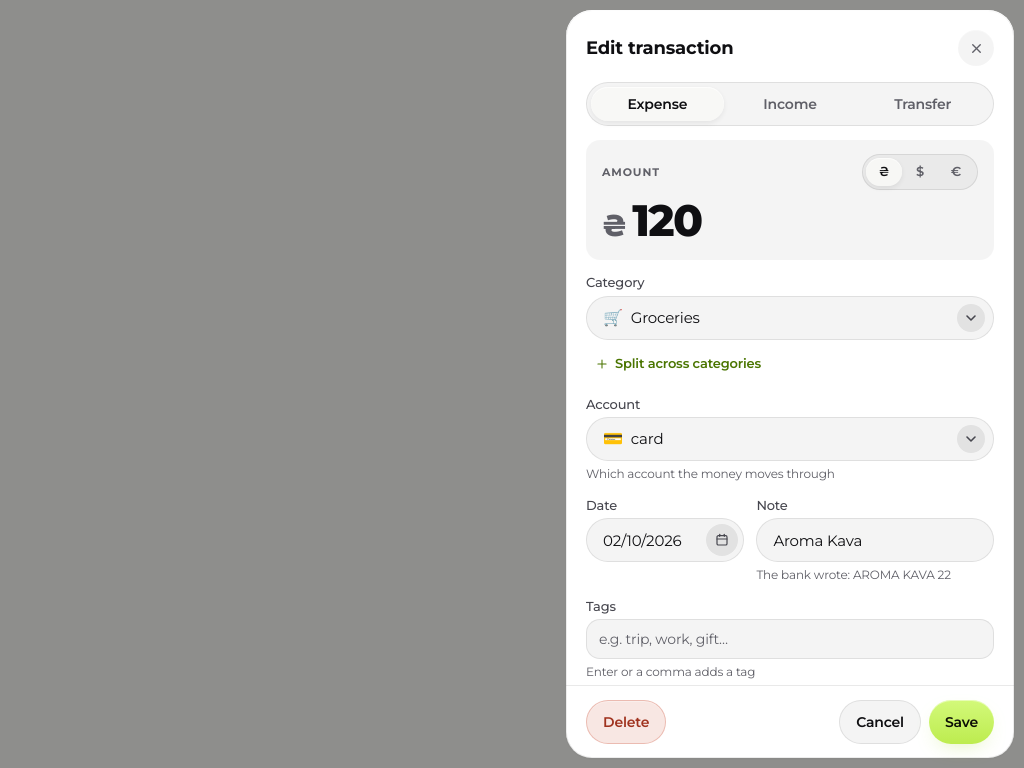
Test: TransactionSheet › shows the bank's own words once the note says something else
This screenshot has width=1024, height=768.
Check: the text "The bank wrote: AROMA KAVA 22" is shown, box top-left (756, 567), bottom-right (951, 582)
Replace the text in the field labelled "Note The bank wrote: AROMA KAVA 22" with "AROMA KAVA 22" at point(875, 540), box top-left (756, 518), bottom-right (994, 562)
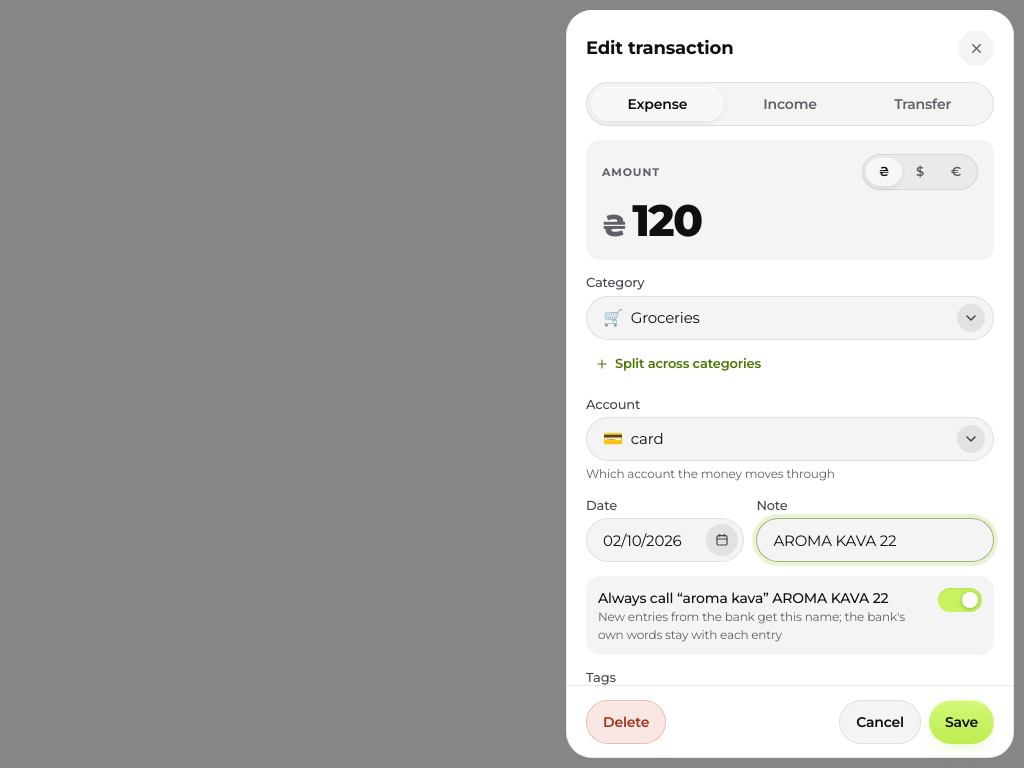
Check: the text "The bank wrote" is gone
